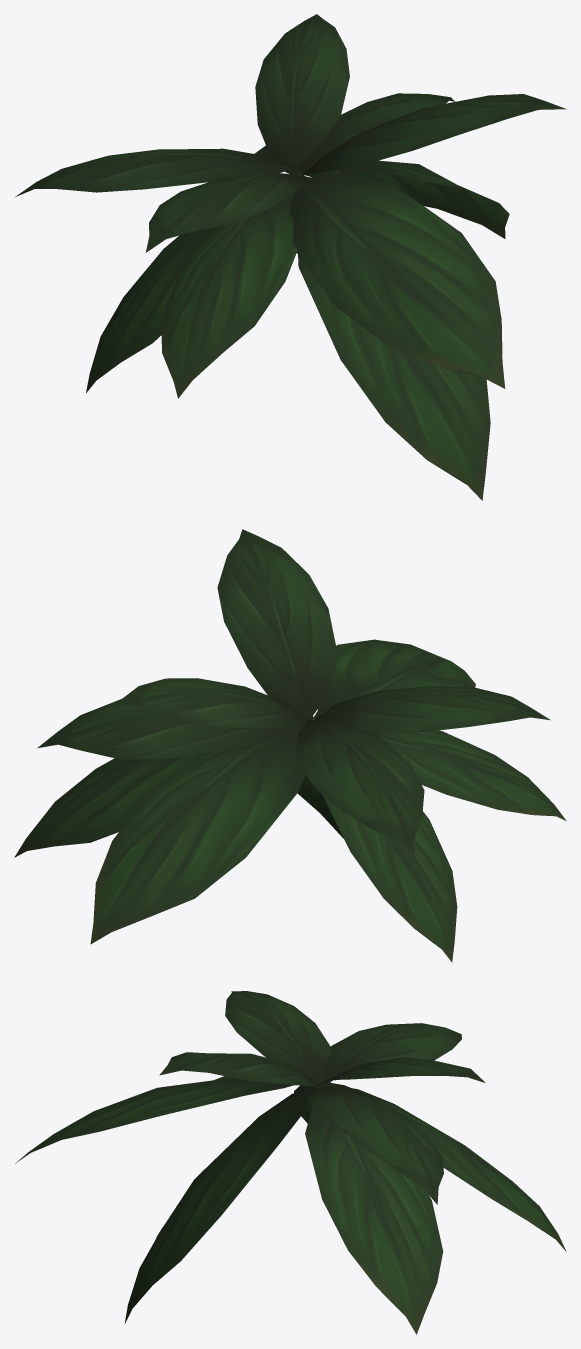
The model's file is Palm_Fronds_05.fbx.
3 views of the same model, one above another, from view 1: azimuth 30°, elevation 25°; view 2: azimuth 150°, elevation 25°; view 3: azimuth 270°, elevation 25° (orthographic). The views are drawn at different scales.
Visible parts, largest first — view 1: Palm_Fronds_05; view 2: Palm_Fronds_05; view 3: Palm_Fronds_05.
Boxes of the visible parts, left/top/right/bottom form: Palm_Fronds_05: left=15, top=14, right=566, bottom=500; Palm_Fronds_05: left=14, top=529, right=566, bottom=962; Palm_Fronds_05: left=15, top=991, right=566, bottom=1334.
Size of the model in its own units: 4.9 by 3.5 by 5.98.
1 material, 1 textured.
